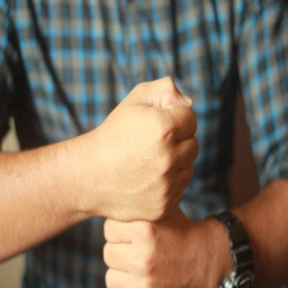G: (93, 69, 202, 288)
